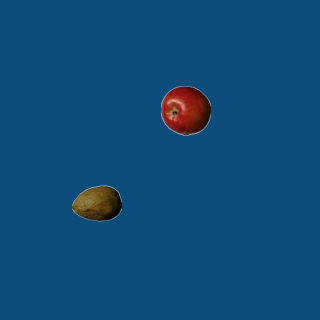Apple Braeburn: (160, 85, 210, 135)
Papaya: (71, 178, 121, 228)
